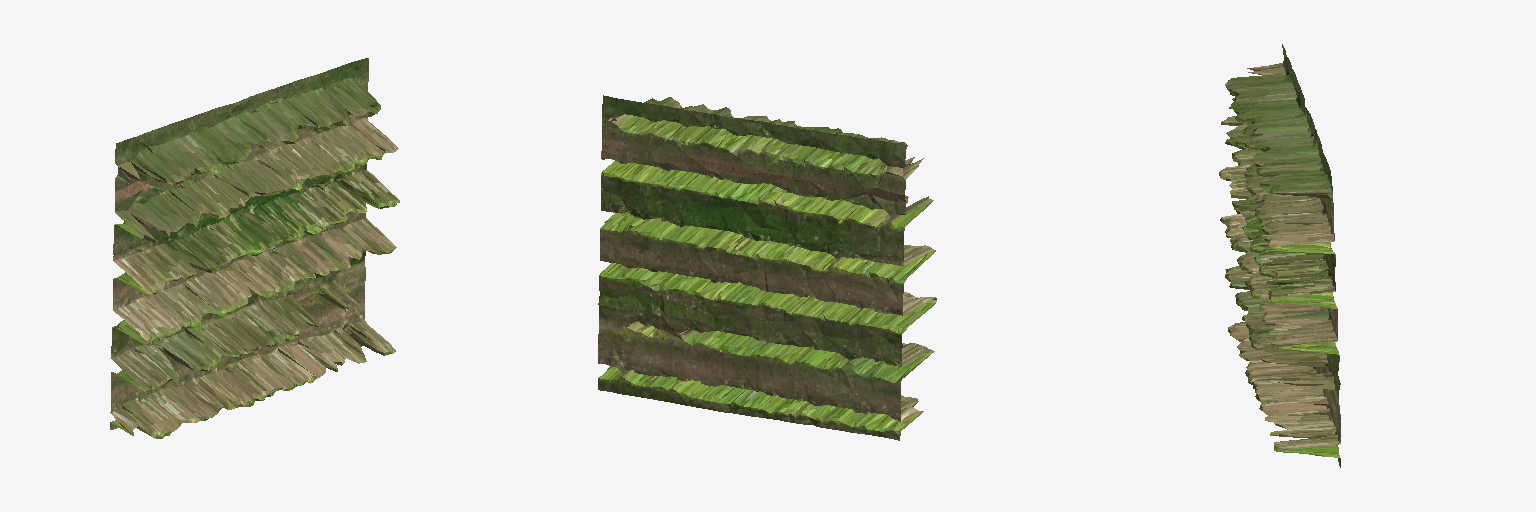
The picture shows the model from 3 angles: view 1: azimuth 30°, elevation 25°; view 2: azimuth 150°, elevation 25°; view 3: azimuth 270°, elevation 25°; orthographic projection.
Visible parts, largest first — view 1: grp1; view 2: grp1; view 3: grp1.
Boxes of the visible parts, <box> form: grp1: <box>110,58,399,438</box>; grp1: <box>598,95,936,440</box>; grp1: <box>1219,44,1340,467</box>.
Size of the model in its own units: 10 by 10 by 3.82.
Materials: 1 (1 with a texture image).